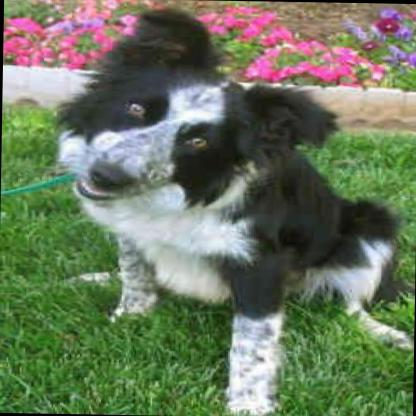Border_collie: (42, 5, 416, 416)
